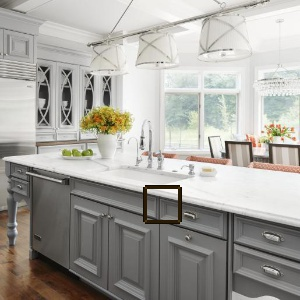square: (141, 183, 184, 225)
